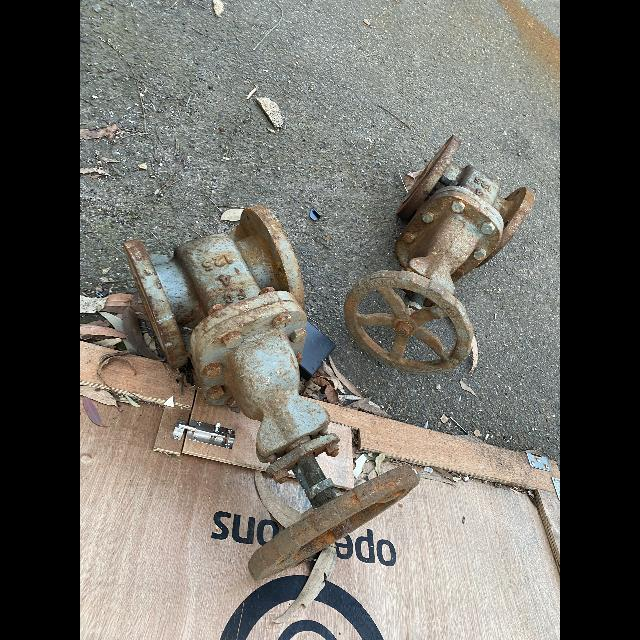Ferrous Metal: (122, 204, 420, 581), (343, 135, 534, 375), (361, 325, 442, 362), (415, 297, 458, 359), (173, 420, 235, 449), (357, 287, 394, 325), (525, 453, 551, 471), (551, 477, 560, 501)
